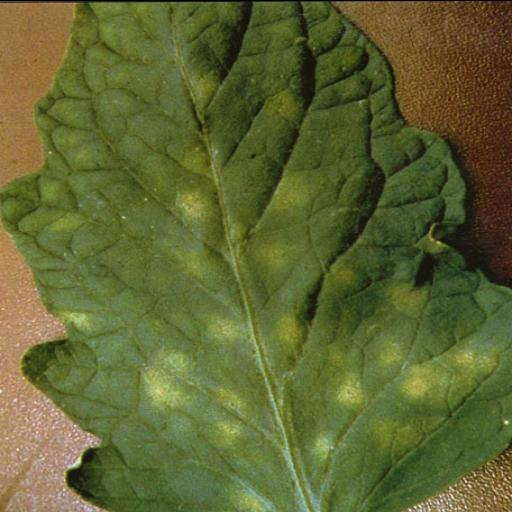disease_tomato: (4, 5, 512, 511)
